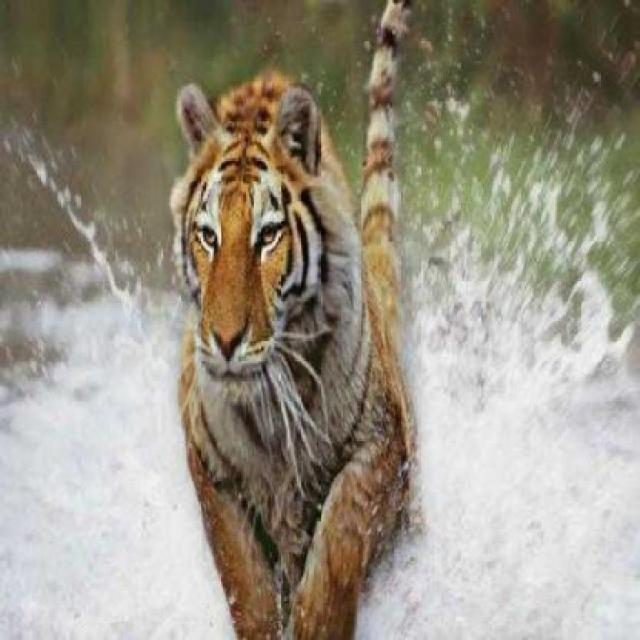Tiger: (150, 40, 427, 638)
